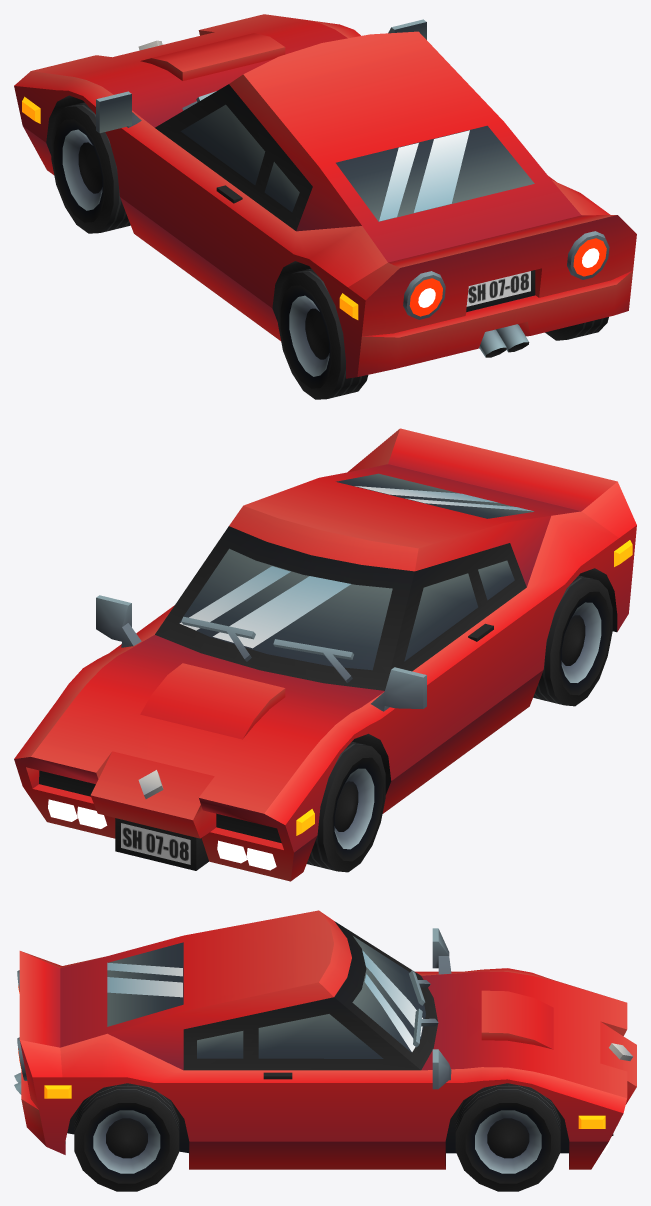
3 views of the same model, one above another, from view 1: azimuth 30°, elevation 25°; view 2: azimuth 150°, elevation 25°; view 3: azimuth 270°, elevation 25° (orthographic). The views are drawn at different scales.
Visible parts, largest first — view 1: vehicle_blue; view 2: vehicle_blue; view 3: vehicle_blue.
Part boxes in pixels (box(x1,y1,x2,y2)): vehicle_blue: box(14, 14, 636, 399); vehicle_blue: box(14, 428, 636, 881); vehicle_blue: box(14, 910, 636, 1191).
Bounding box in the file's own units: 2.38 × 1.59 × 4.67.
2 materials, 2 textured.
